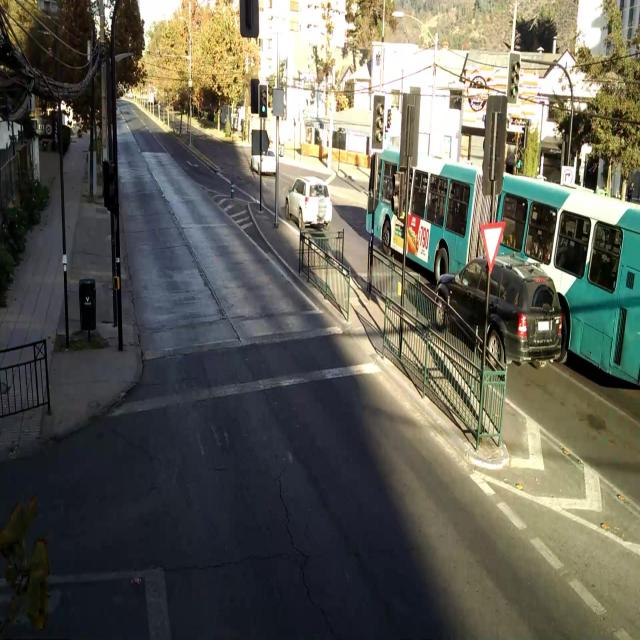AB: (361, 144, 640, 398)
